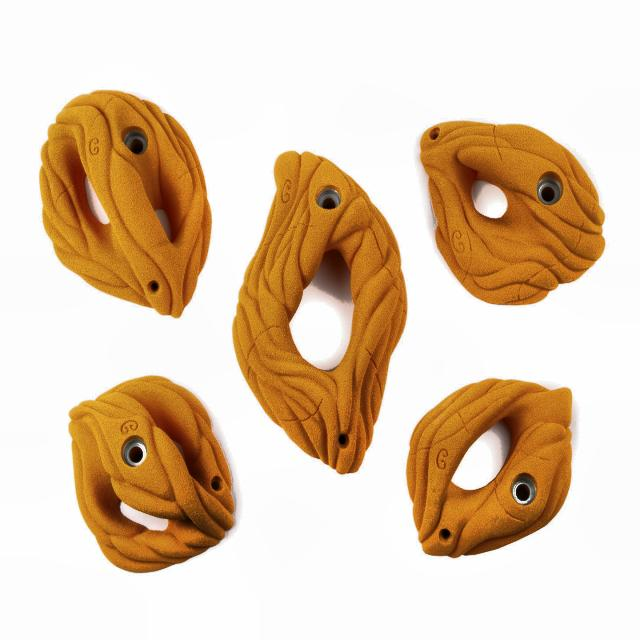Hold: (234, 147, 406, 474), (40, 90, 213, 320), (419, 118, 603, 306), (68, 375, 234, 576), (406, 379, 577, 558)
